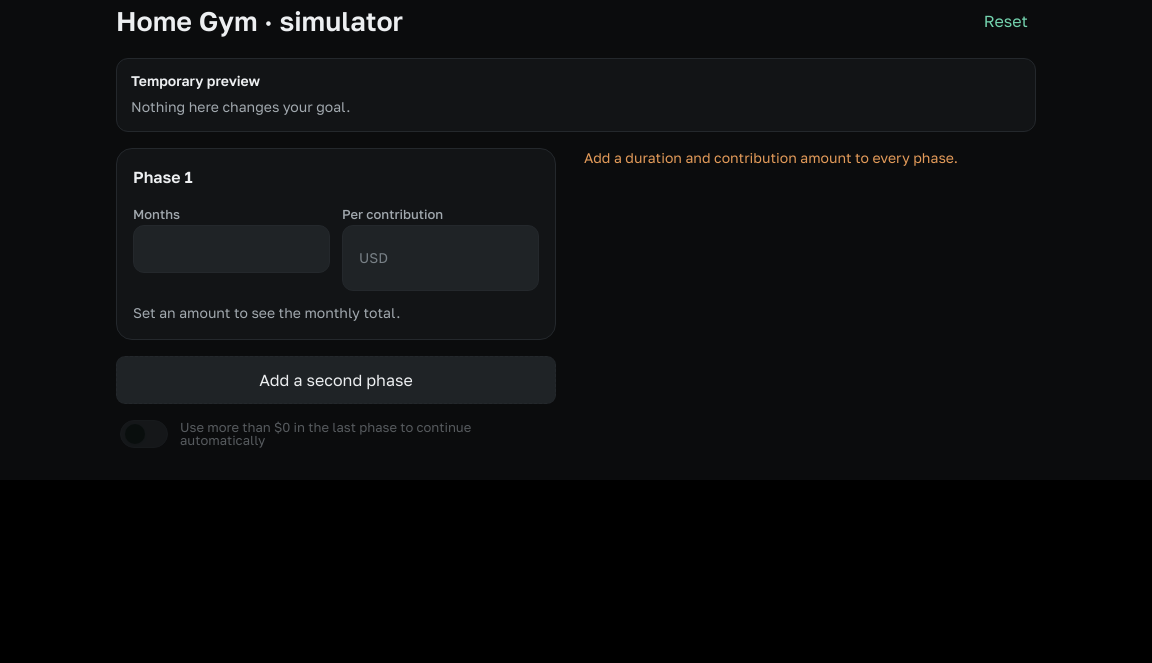
Test: M4 simulator page › adds and removes phases up to three
Expected: the heading "Home Gym · simulator" is shown, left=116, top=5, right=403, bottom=37
What coordinates should you click on to do the following:
click the button "Add a second phase"
I would click on:
 (336, 380)
Its box is left=116, top=356, right=556, bottom=404.
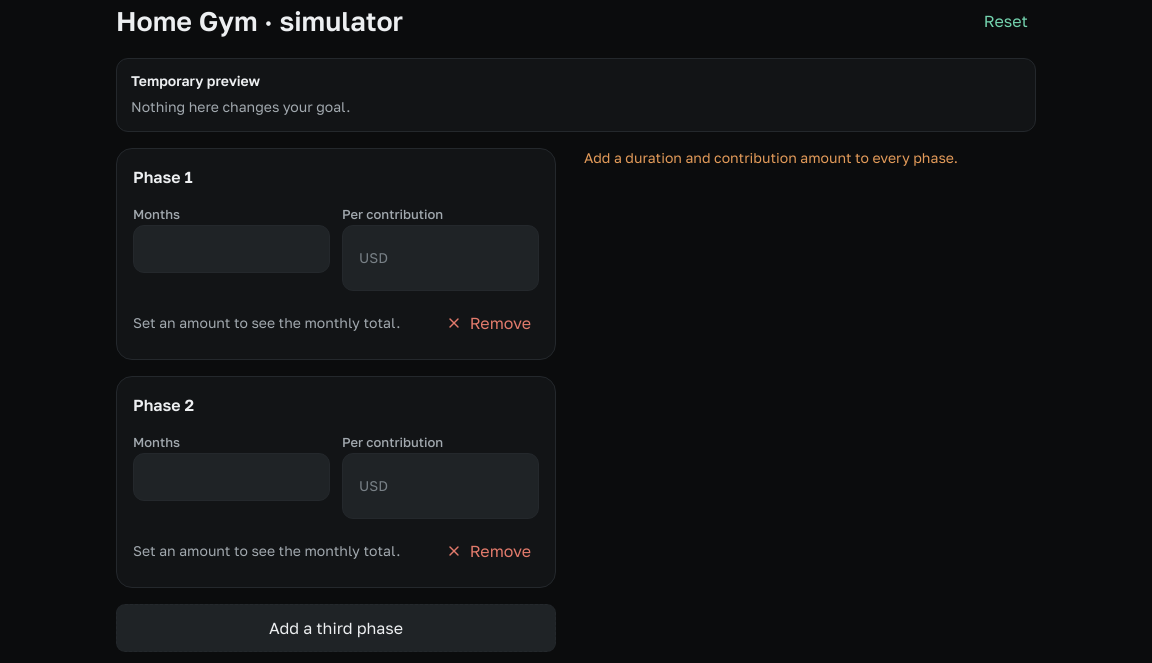
Result: the heading "Phase 2" is shown at left=133, top=393, right=194, bottom=417
What coordinates should you click on to do the following:
click the button "Add a third phase"
I would click on:
 (336, 628)
Its box is left=116, top=604, right=556, bottom=652.
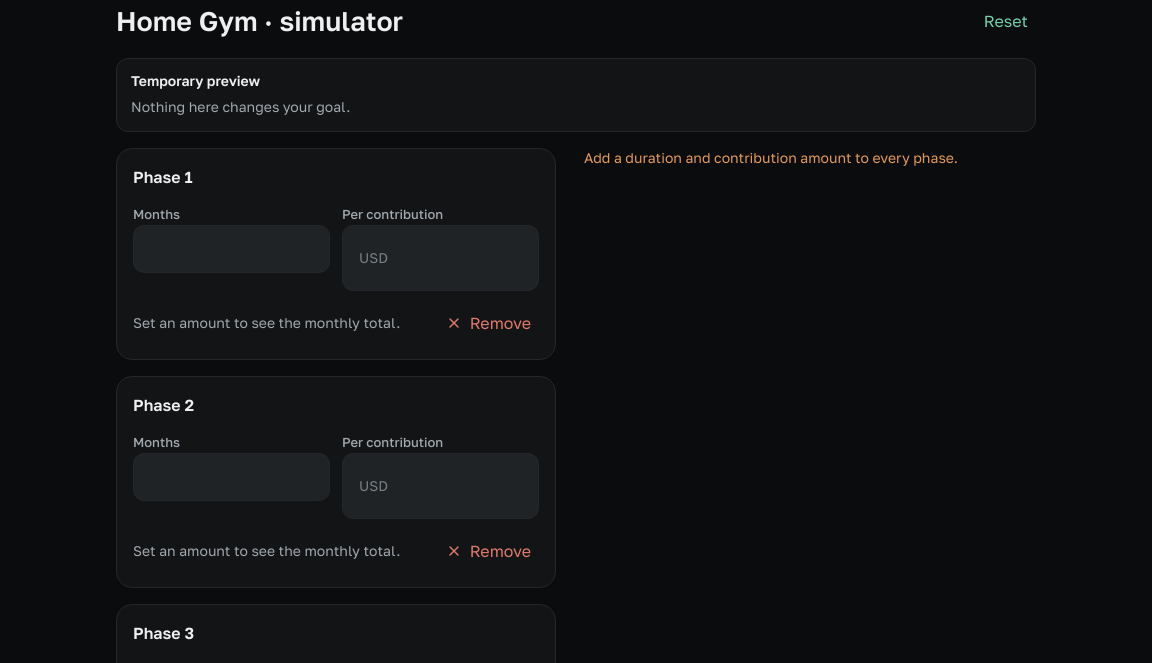
Result: the heading "Phase 3" is shown at left=133, top=621, right=194, bottom=645
What coordinates should you click on to do the following:
click the 1st button "Remove"
I would click on:
 (488, 323)
Its box is left=438, top=303, right=539, bottom=343.
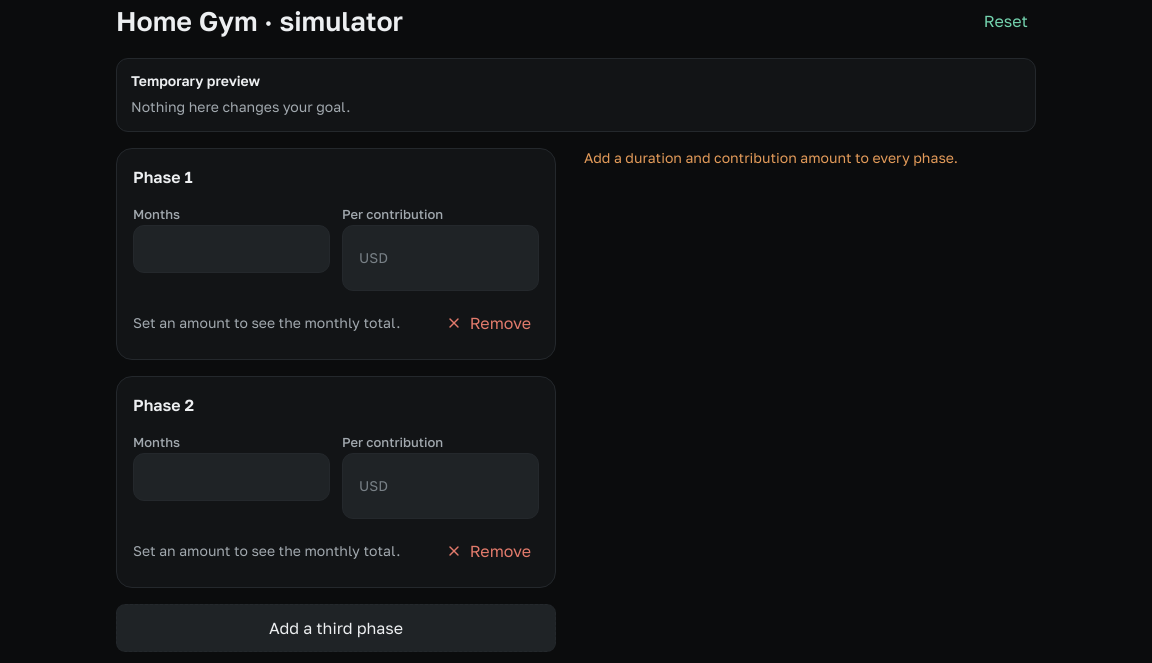
Result: the heading "Phase 3" is gone
